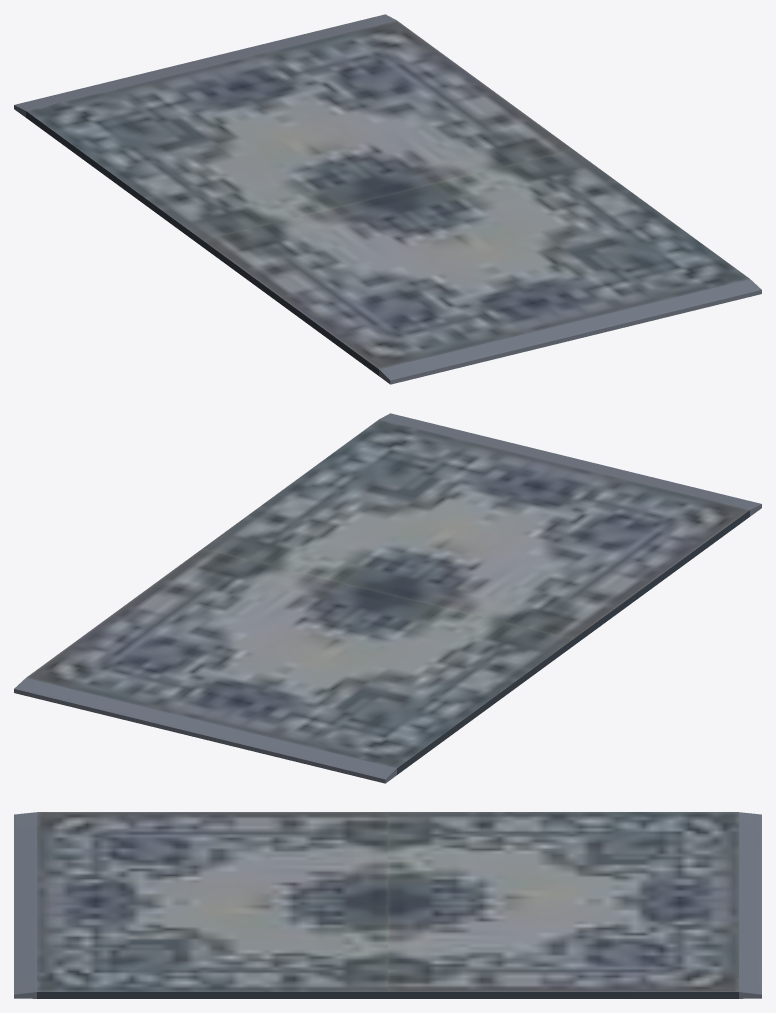
The model's file is rug3.glb.
3 renders of one model, top to bottom at view 1: azimuth 30°, elevation 25°; view 2: azimuth 150°, elevation 25°; view 3: azimuth 270°, elevation 25°, orthographic.
Visible parts, largest first — view 1: SM_Prop_Rug_03; view 2: SM_Prop_Rug_03; view 3: SM_Prop_Rug_03.
Part boxes in pixels (x1,y1,x2,y2): SM_Prop_Rug_03: [14, 14, 761, 384]; SM_Prop_Rug_03: [14, 413, 761, 783]; SM_Prop_Rug_03: [14, 812, 761, 998].
Bounding box in the file's own units: 1.45 × 0.0256 × 2.55.
Materials: 1 (1 with a texture image).
